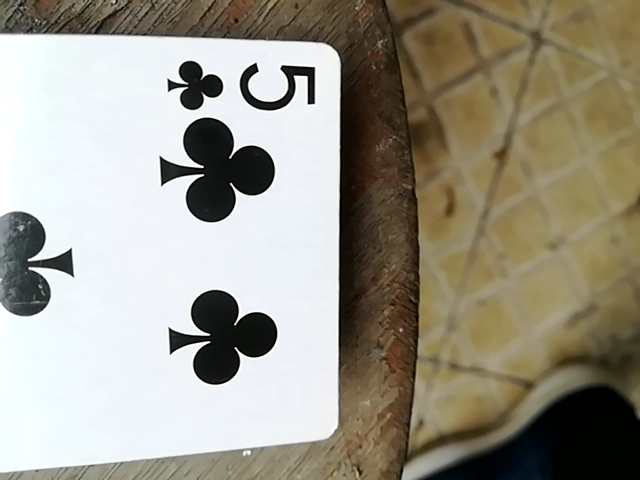mh 5: (0, 0, 333, 476)
